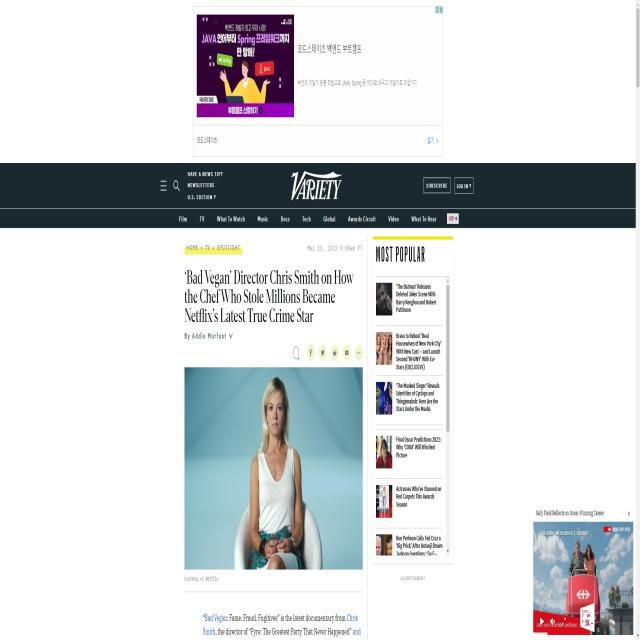control-bar: (533, 609, 631, 632)
menu-bar: (418, 172, 475, 208)
tab-bar: (172, 209, 460, 226)
